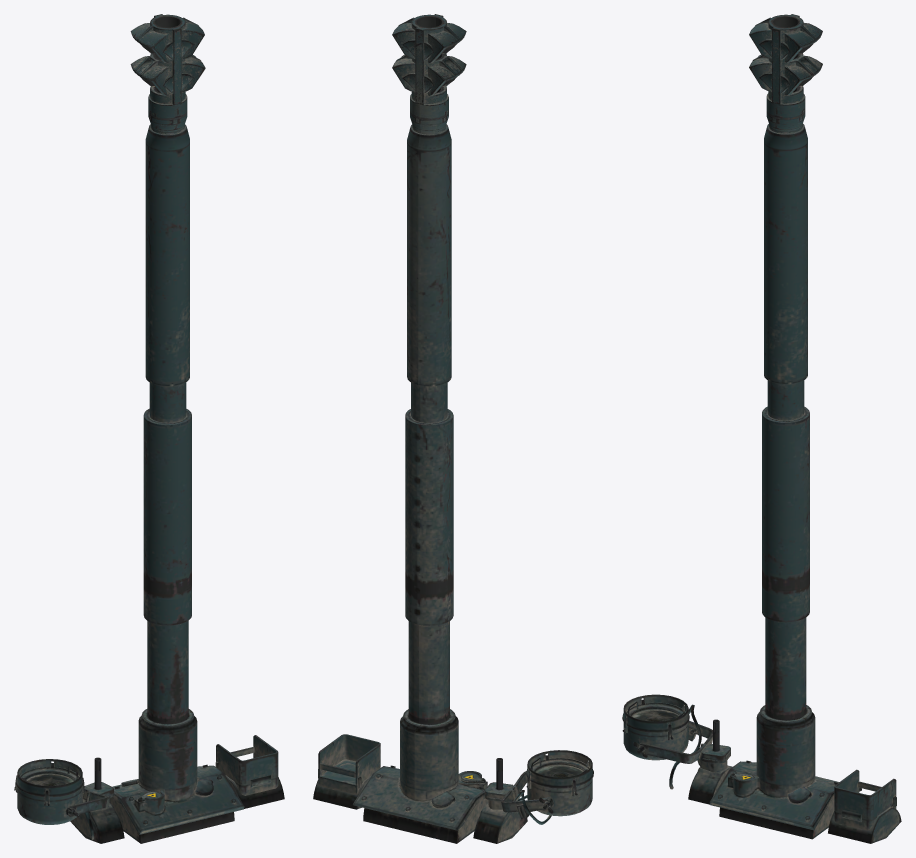
The model's file is Gun_01.glb.
3 renders of one model, left to right at view 1: azimuth 30°, elevation 25°; view 2: azimuth 150°, elevation 25°; view 3: azimuth 330°, elevation 25°, orthographic.
Parts seen in each view (by area): view 1: set_0_group_0; view 2: set_0_group_0; view 3: set_0_group_0.
Boxes of the visible parts, x1,y1,x2,y2 form: set_0_group_0: (14,14,284,843); set_0_group_0: (313,14,593,843); set_0_group_0: (622,14,901,843).
Bounding box in the file's own units: 1.32 × 3.95 × 0.4795.
1 material, 1 textured.
